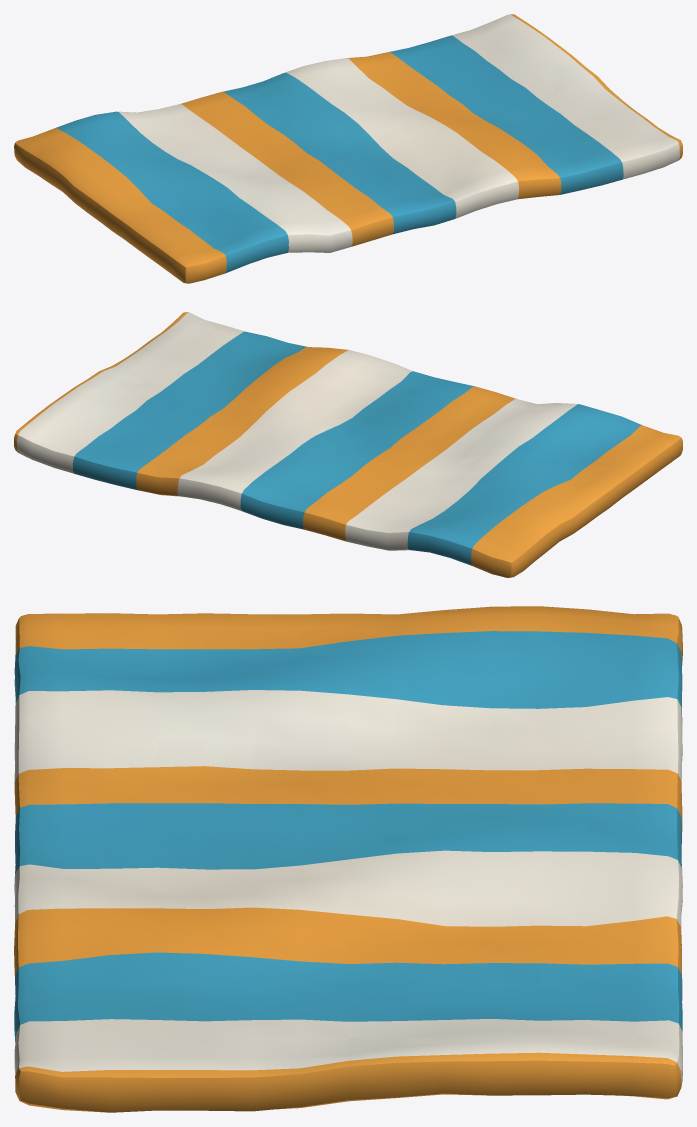
The model's file is shore_towel.glb.
The picture shows the model from 3 angles, top to bottom: view 1: azimuth 30°, elevation 25°; view 2: azimuth 150°, elevation 25°; view 3: azimuth 270°, elevation 25°; orthographic projection. The views are drawn at different scales.
Visible parts, largest first — view 1: shore_towel; view 2: shore_towel; view 3: shore_towel.
Part boxes in pixels (x1,y1,x2,y2): shore_towel: (14,14,682,283); shore_towel: (14,312,682,577); shore_towel: (14,606,682,1112).
Size of the model in its own units: 20.05 by 1.31 by 12.05.
